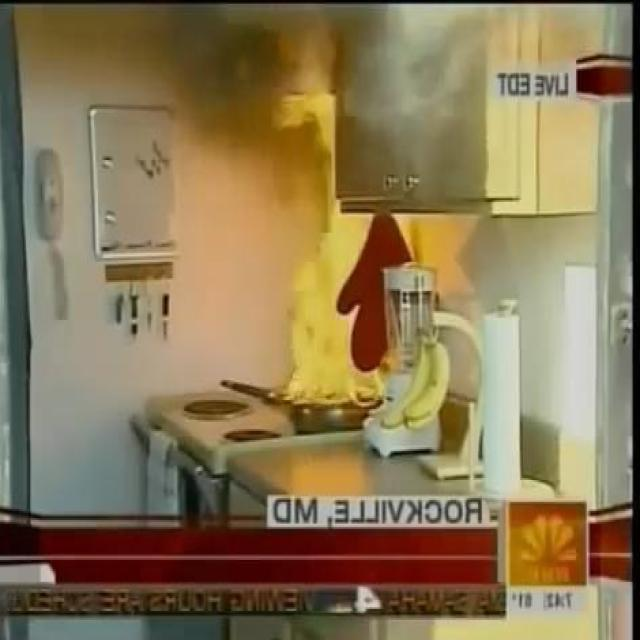fire: (342, 1, 489, 176)
smoke: (280, 87, 390, 413)
